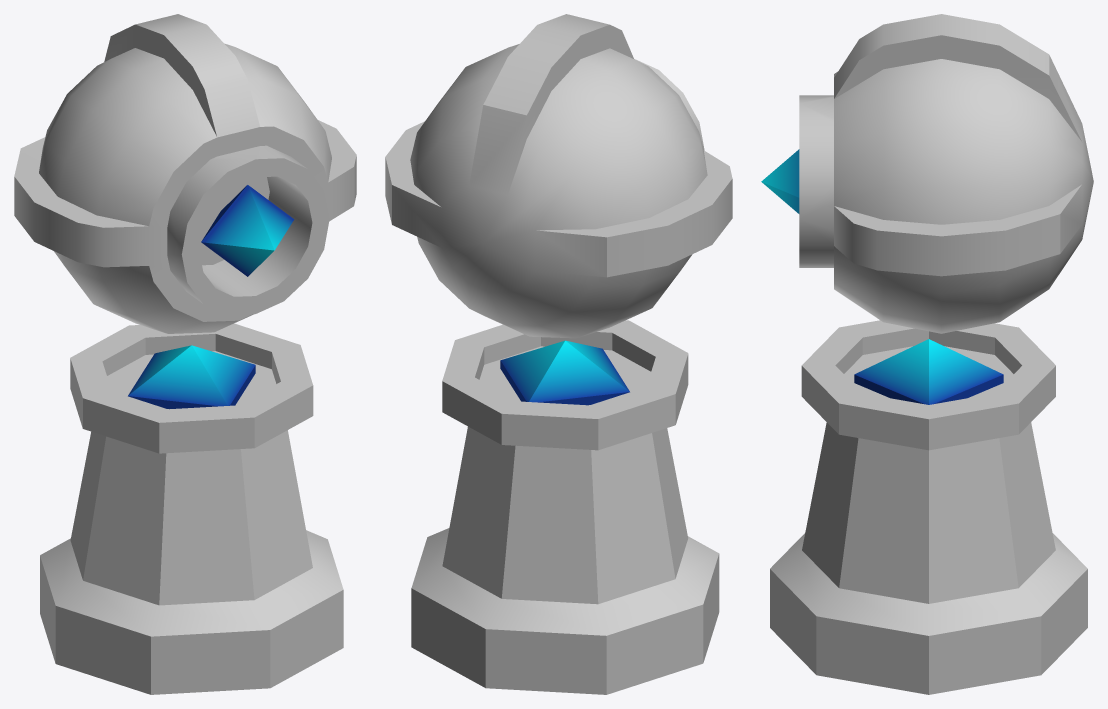
File: Turret2.fbx
3 renders of one model, left to right at view 1: azimuth 30°, elevation 25°; view 2: azimuth 150°, elevation 25°; view 3: azimuth 270°, elevation 25°, orthographic.
Parts seen in each view (by area): view 1: Circle, Sphere, Plane, Sphere.001; view 2: Circle, Sphere, Plane; view 3: Circle, Sphere, Plane, Sphere.001.
Boxes of the visible parts, x1=… form: Circle: x1=40, y1=323, x2=343, y2=694; Sphere: x1=14, y1=14, x2=356, y2=333; Plane: x1=128, y1=345, x2=255, y2=409; Sphere.001: x1=201, y1=185, x2=294, y2=276; Circle: x1=411, y1=320, x2=719, y2=694; Sphere: x1=385, y1=14, x2=732, y2=338; Plane: x1=500, y1=340, x2=629, y2=405; Circle: x1=770, y1=320, x2=1087, y2=694; Sphere: x1=799, y1=14, x2=1093, y2=333; Plane: x1=854, y1=339, x2=1003, y2=404; Sphere.001: x1=761, y1=149, x2=799, y2=213.
Bounding box in the file's own units: 254 × 480 × 240.
